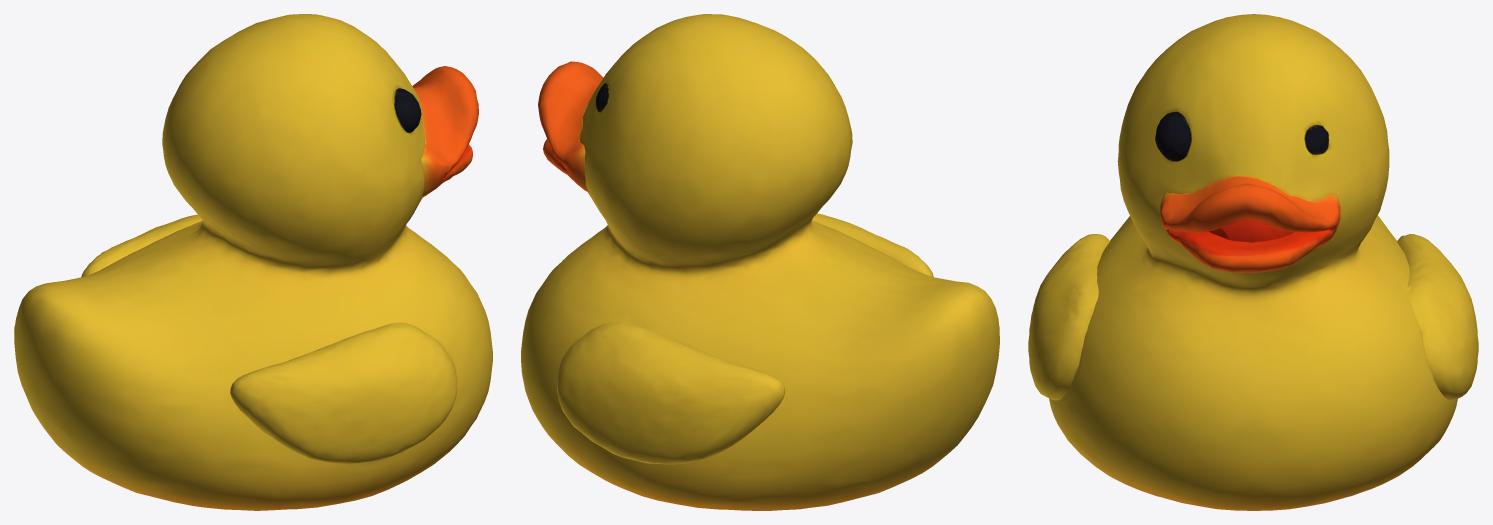
The model's file is r33-duck.glb.
3 renders of one model, left to right at view 1: azimuth 30°, elevation 25°; view 2: azimuth 150°, elevation 25°; view 3: azimuth 270°, elevation 25°, orthographic. The views are drawn at different scales.
Parts seen in each view (by area): view 1: tripo_node_dabca702-5921-453b-aea4-5bccab0e8a51; view 2: tripo_node_dabca702-5921-453b-aea4-5bccab0e8a51; view 3: tripo_node_dabca702-5921-453b-aea4-5bccab0e8a51.
Boxes of the visible parts, x1,y1,x2,y2 form: tripo_node_dabca702-5921-453b-aea4-5bccab0e8a51: (14, 14, 492, 510); tripo_node_dabca702-5921-453b-aea4-5bccab0e8a51: (521, 14, 999, 510); tripo_node_dabca702-5921-453b-aea4-5bccab0e8a51: (1028, 14, 1478, 510).
Bounding box in the file's own units: 0.998 × 0.9199 × 0.8652.
Materials: 1 (1 with a texture image).
